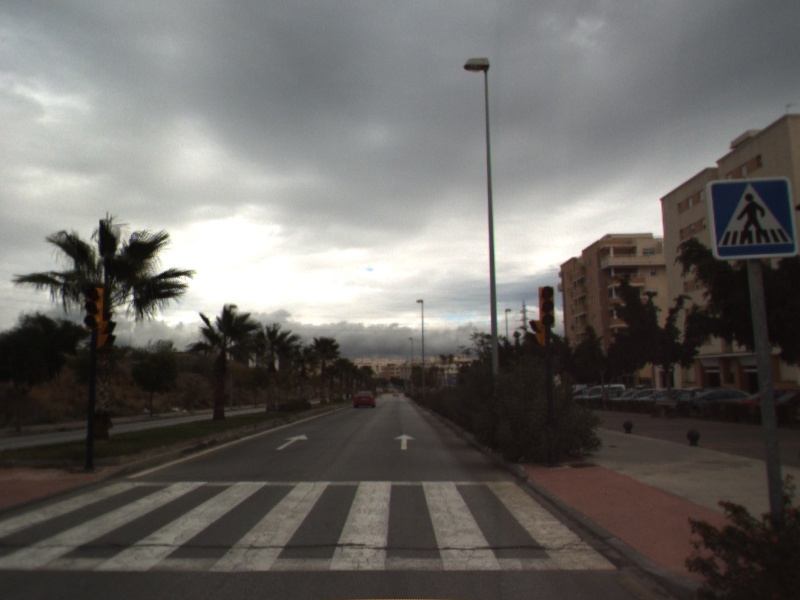STRAIGHT: (274, 432, 310, 452), (392, 431, 417, 451)
